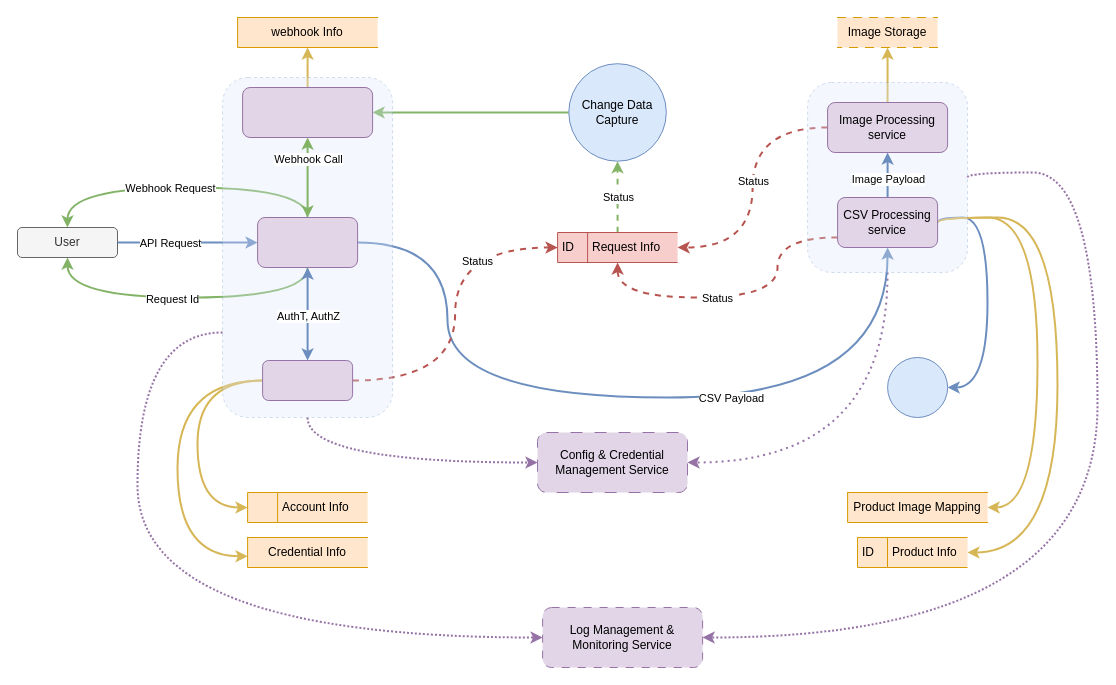
Image size: 1116x685. Some labels were removed from this diagram. Here are the shapes that lost their labels. From the top down, the centre of each, then its label:
the point at 307,112: Notification Service (webhook)
the point at 307,242: API Gateway Service
the point at 307,380: Auth Service
the point at 917,387: CSV Validation
